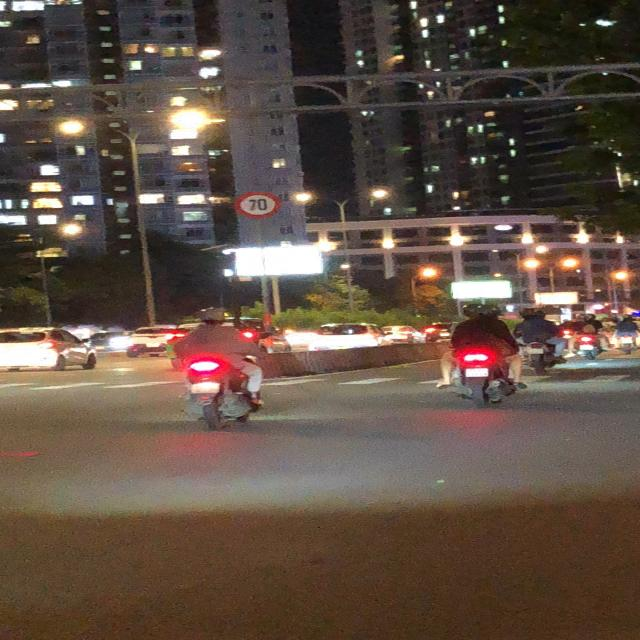Bien bao toc do toi da cho phep: (228, 189, 282, 219)
